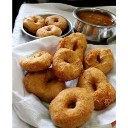vada: (49, 88, 93, 127), (79, 68, 113, 108), (24, 70, 65, 100), (54, 47, 84, 79), (86, 47, 114, 72), (22, 49, 50, 71), (62, 31, 87, 55), (21, 15, 44, 31), (44, 13, 69, 27), (36, 24, 62, 35)
